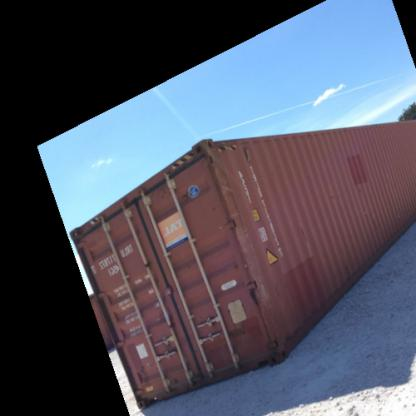Damage: (204, 134, 238, 204), (251, 264, 278, 346), (230, 192, 254, 262)
